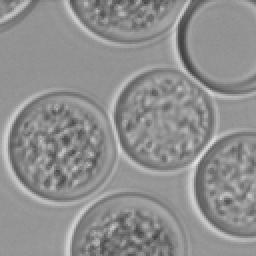picoshell: (6, 90, 116, 204), (114, 68, 212, 168), (68, 192, 186, 254), (178, 0, 254, 96), (192, 132, 254, 238), (70, 0, 186, 42)
